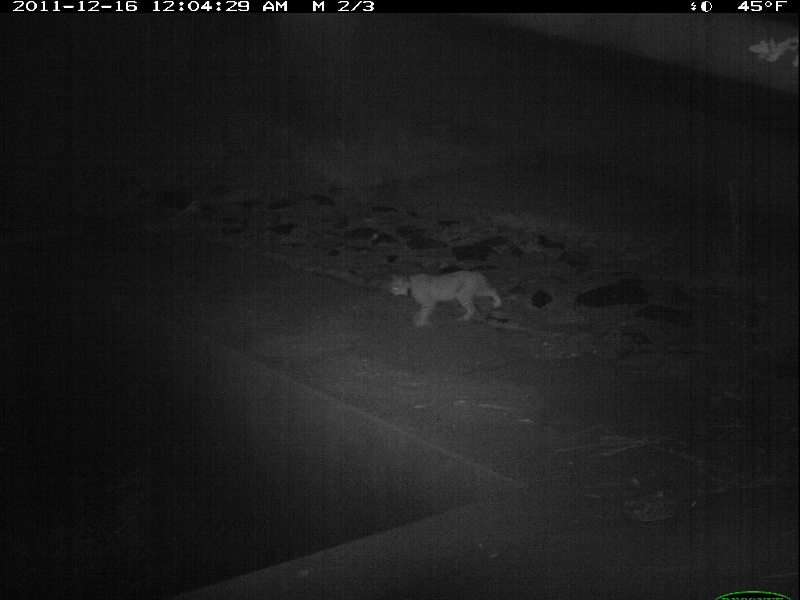cat: (387, 273, 504, 324)
